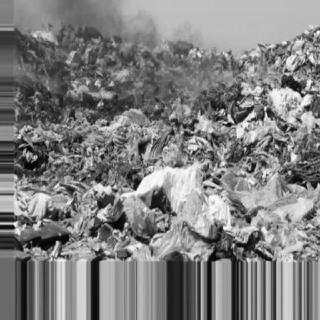Fire: (230, 56, 287, 92), (18, 32, 56, 80)
